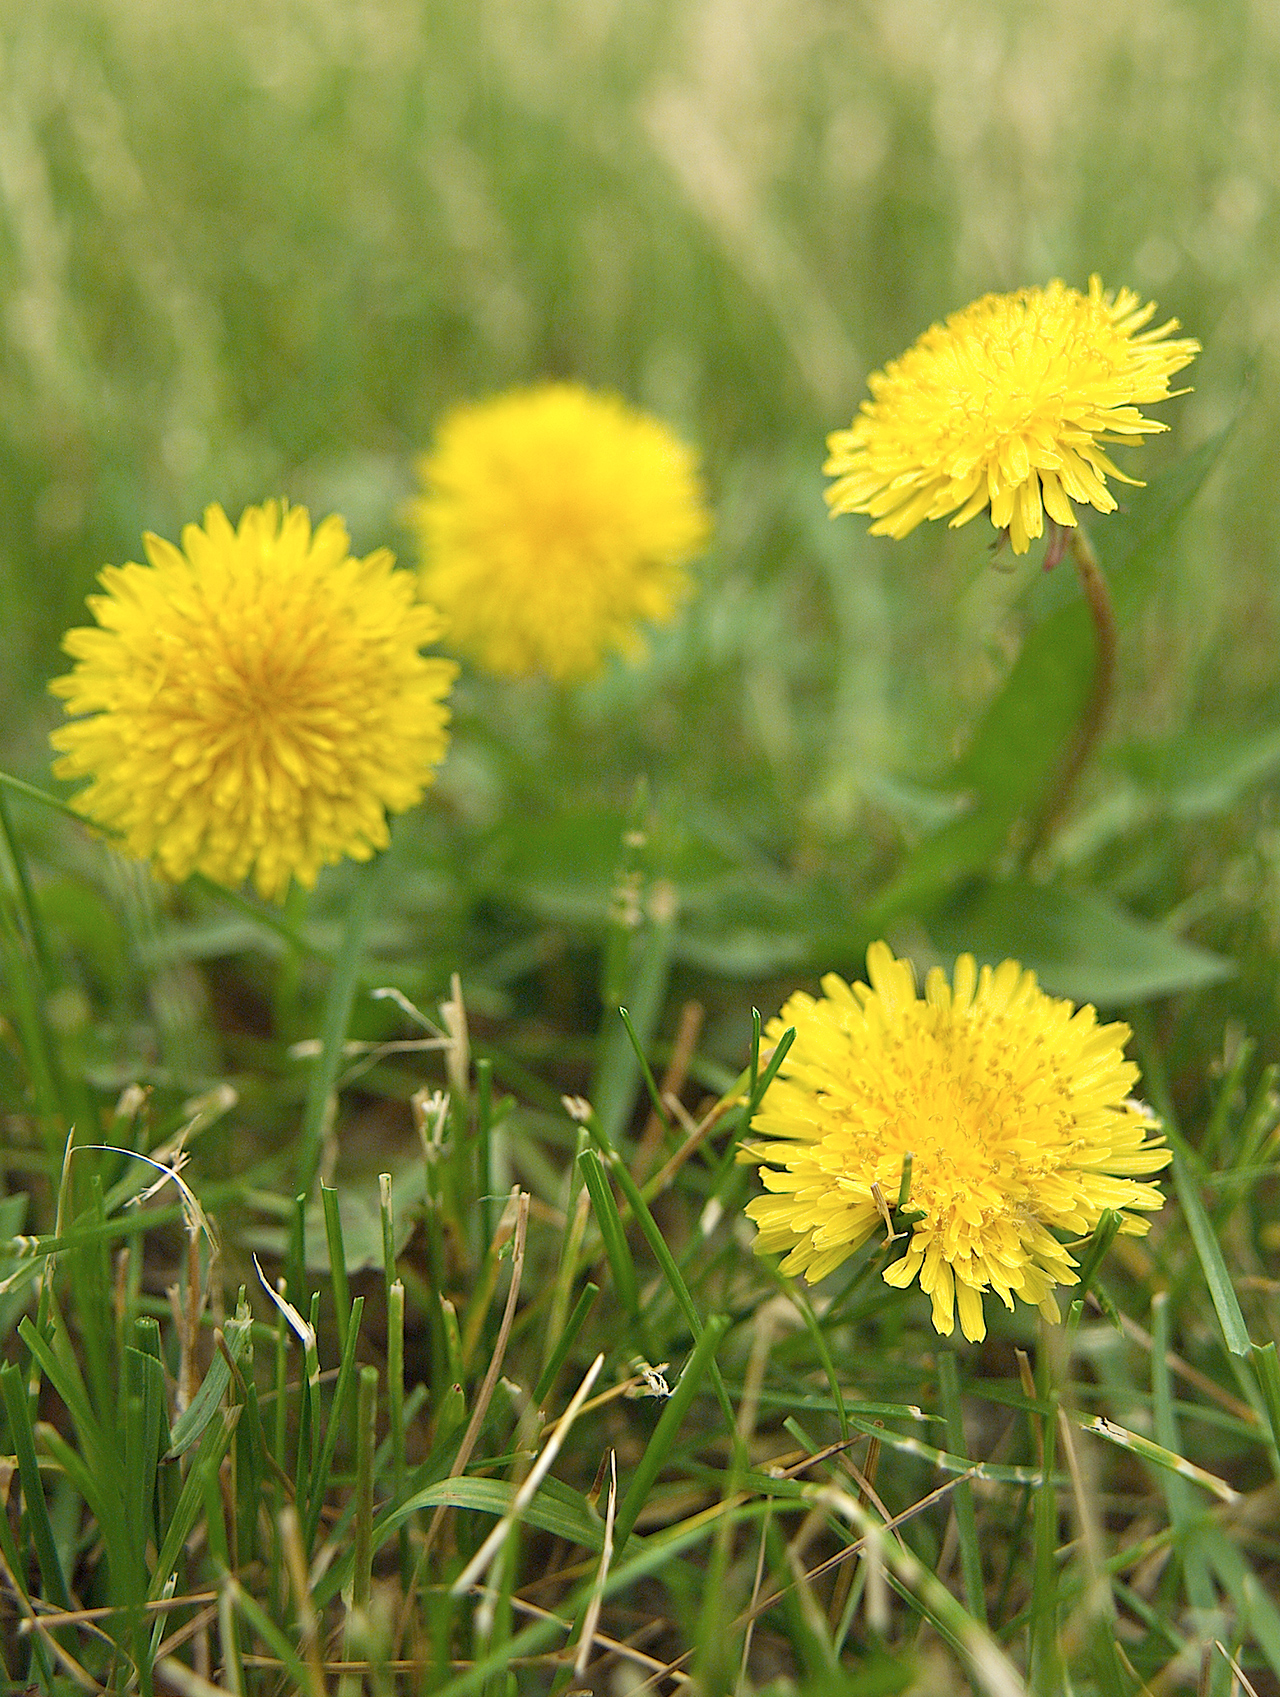dandelion: (731, 965, 1175, 1322), (81, 555, 464, 869), (826, 272, 1186, 563), (407, 390, 705, 682)
